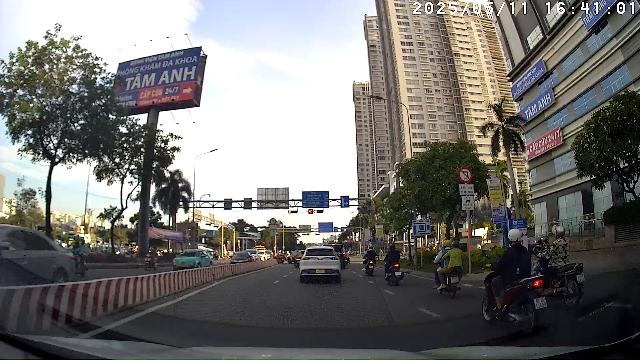103c-cam-oto-re-trai: (457, 166, 473, 183)
